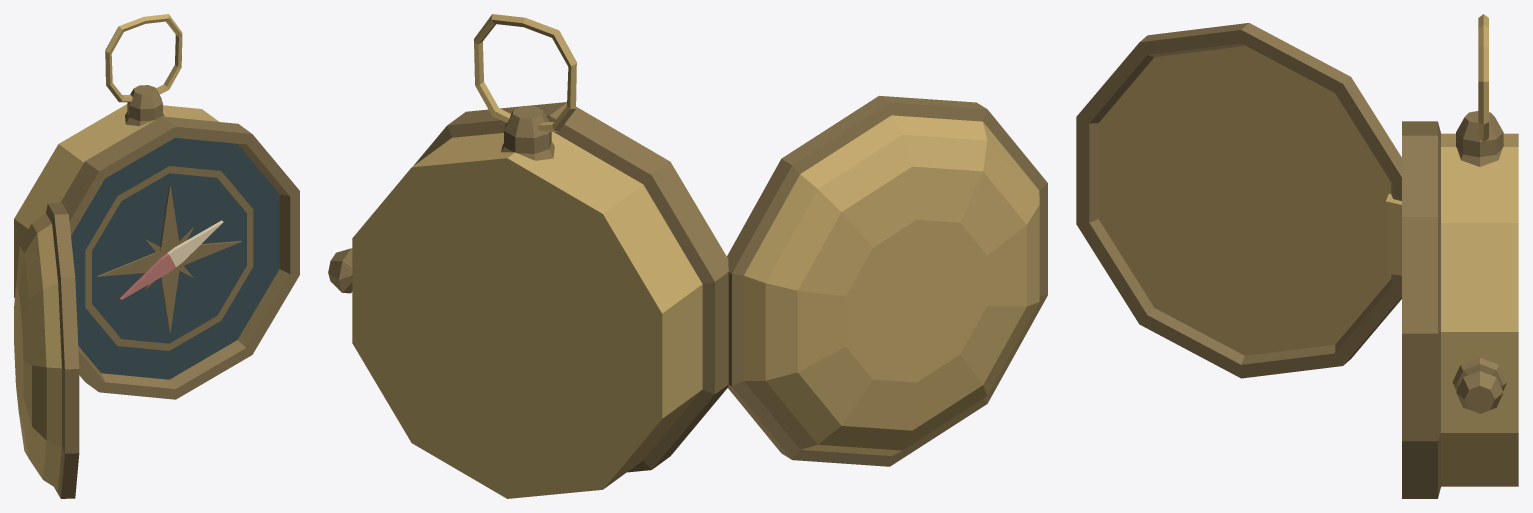
File: navigation-compass.glb
3 views of the same model, side by side, from view 1: azimuth 30°, elevation 25°; view 2: azimuth 150°, elevation 25°; view 3: azimuth 270°, elevation 25° (orthographic). The views are drawn at different scales.
Visible parts, largest first — view 1: Compass_Open; view 2: Compass_Open; view 3: Compass_Open.
Boxes of the visible parts, bbox=[...] form: Compass_Open: bbox=[14, 14, 299, 498]; Compass_Open: bbox=[328, 14, 1047, 498]; Compass_Open: bbox=[1076, 14, 1518, 498].
Size of the model in its own units: 0.9079 by 0.8054 by 0.7027.
